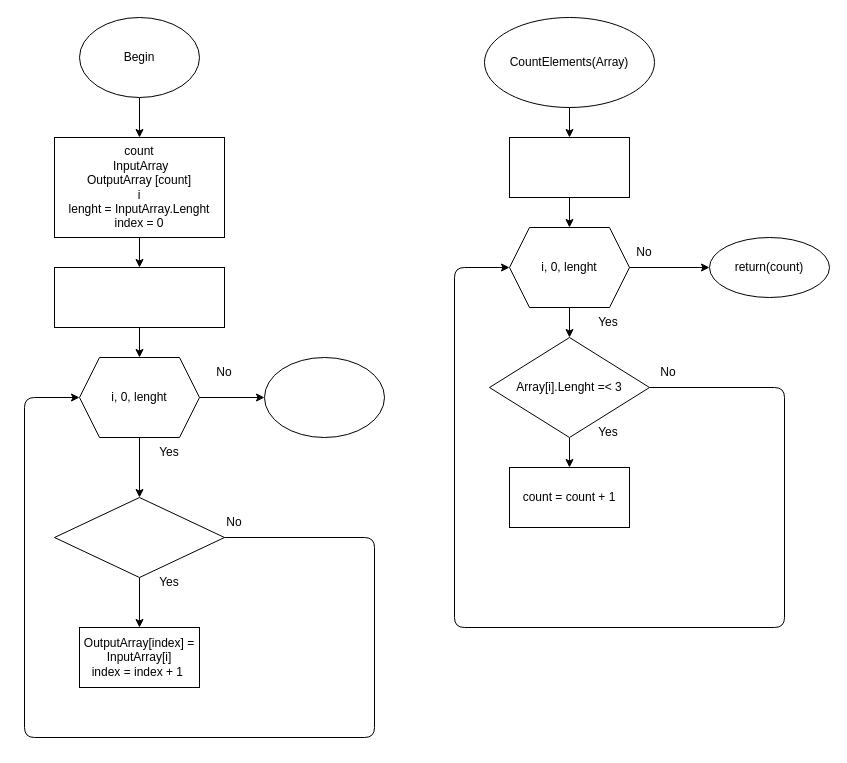
Image size: 847x763. Some labels were removed from this diagram. The centre of each missing label's shape, as x and y in pixels:
"CountElements(InputArray)" belongs at (139,297).
"End" belongs at (324,397).
"i lenght = Array.Lenght count = 0" belongs at (569,167).
"InputArray[i].Lenght =< 3" belongs at (139,537).
